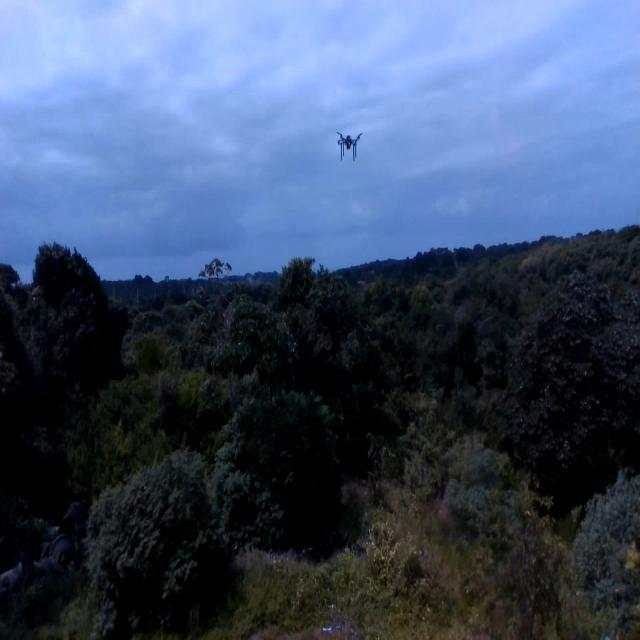-uav-: (329, 125, 367, 165)
